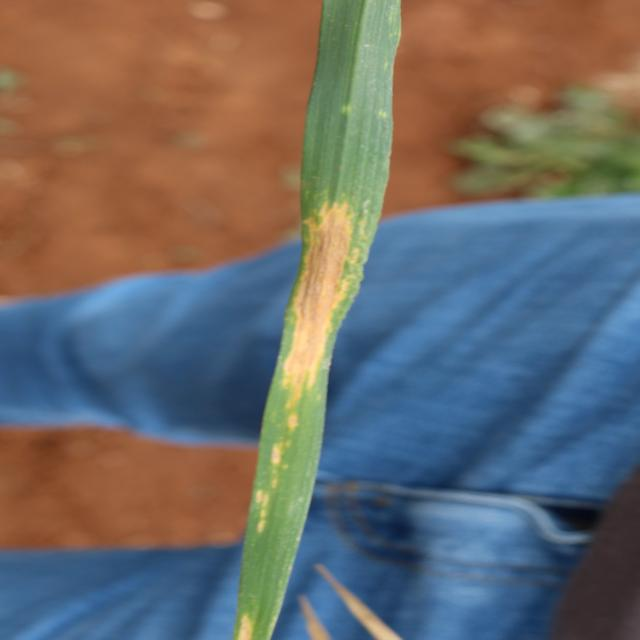Septoria: (277, 207, 360, 384)
